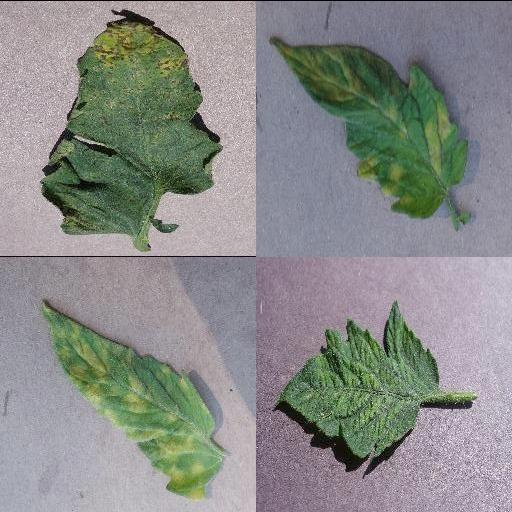Leaf Mold: (39, 298, 225, 499), (268, 38, 468, 218)
Mosaic Virus: (280, 300, 440, 458)
Septoria: (38, 16, 222, 234)
